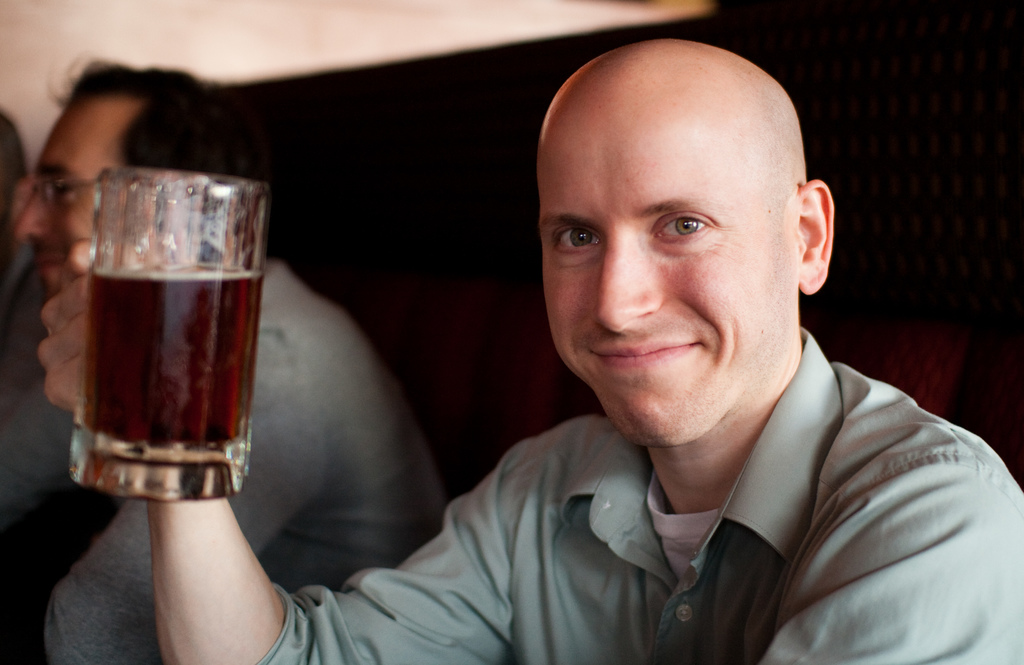Beer: (80, 270, 261, 458)
